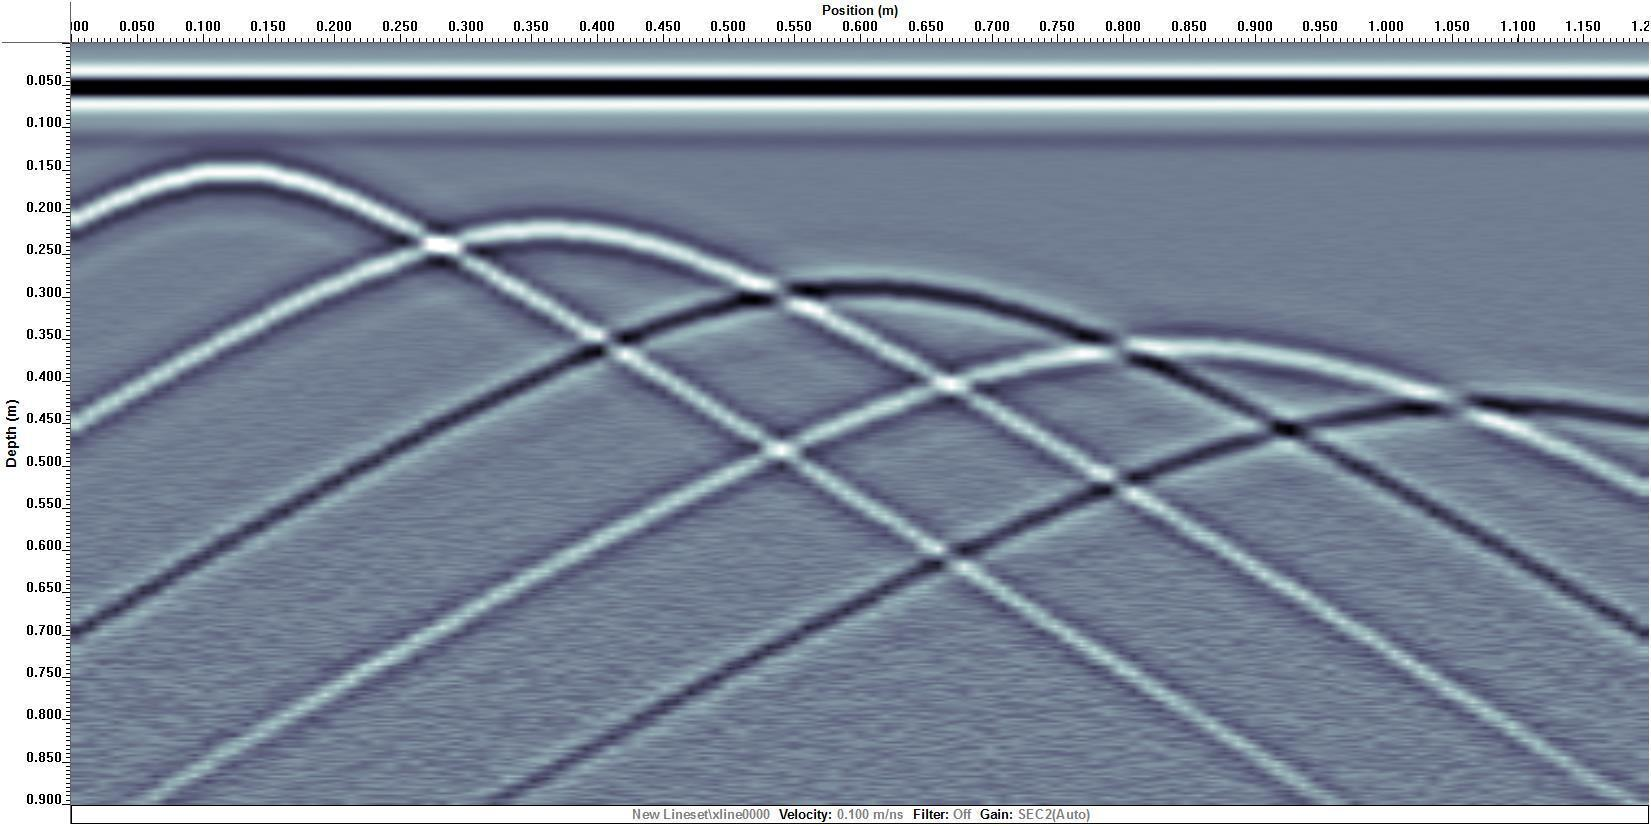Hyperbola: (69, 192, 1651, 804), (69, 125, 1371, 803), (72, 253, 1650, 804), (148, 309, 1651, 801), (473, 366, 1651, 800)
